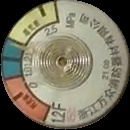green: (1, 39, 27, 79)
needle: (8, 43, 34, 55)
red: (2, 77, 51, 125)
yellow: (7, 1, 59, 46)
